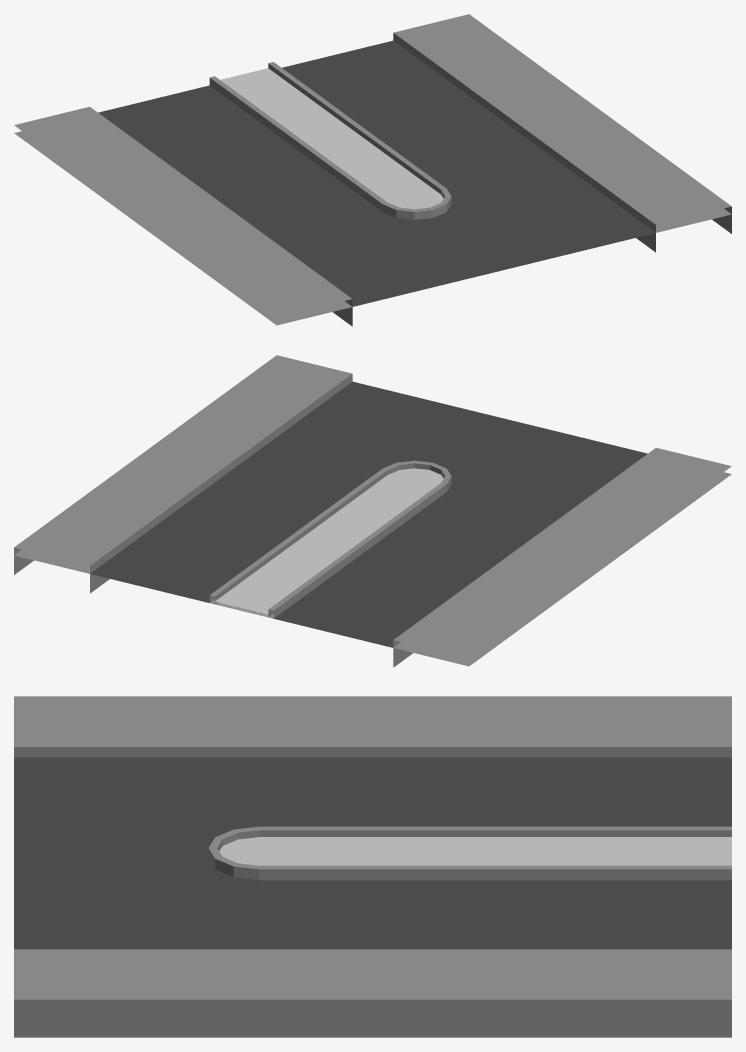
3 renders of one model, top to bottom at view 1: azimuth 30°, elevation 25°; view 2: azimuth 150°, elevation 25°; view 3: azimuth 270°, elevation 25°, orthographic. The views are drawn at different scales.
Visible parts, largest first — view 1: Model_0, Skybox, Grass; view 2: Model_0, Skybox, Grass; view 3: Model_0, Skybox, Grass.
Boxes of the visible parts, bbox=[...] form: Model_0: bbox=[14, 14, 731, 326]; Skybox: bbox=[14, 93, 731, 325]; Grass: bbox=[220, 68, 443, 209]; Model_0: bbox=[14, 355, 731, 667]; Skybox: bbox=[14, 421, 731, 666]; Grass: bbox=[215, 468, 443, 614]; Model_0: bbox=[14, 696, 731, 1037]; Skybox: bbox=[14, 757, 731, 857]; Grass: bbox=[219, 837, 731, 865].
Size of what is drawn, in the model's own units: 2400 by 140 by 2400.
